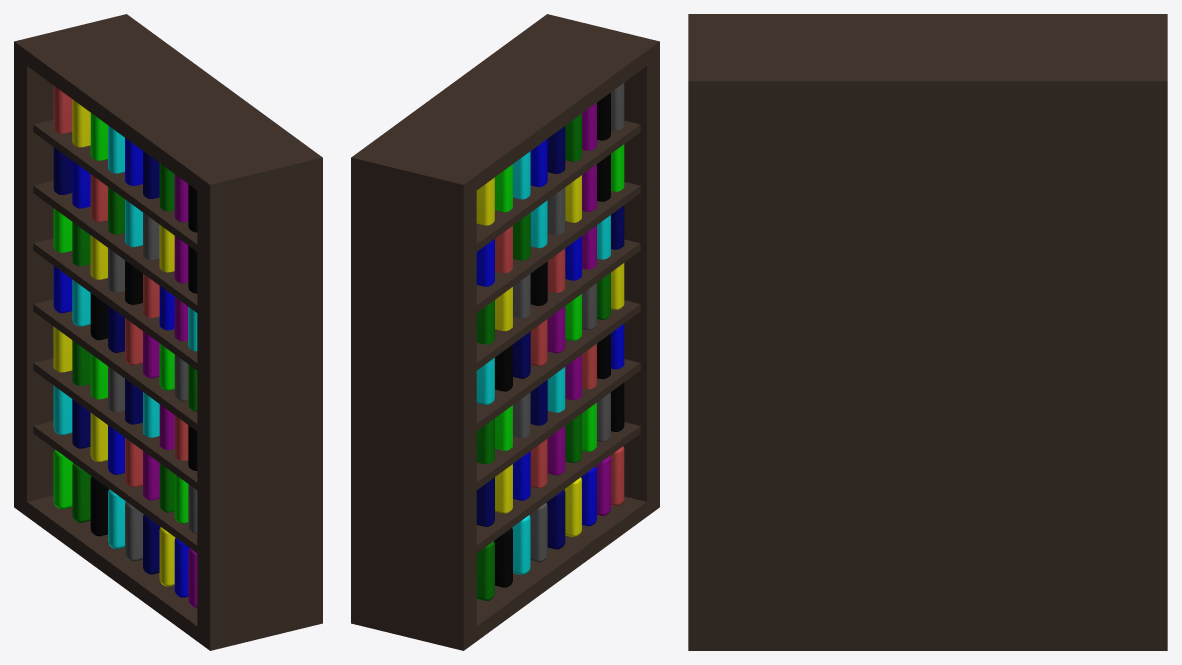
File: full bookshelf.fbx
3 renders of one model, left to right at view 1: azimuth 30°, elevation 25°; view 2: azimuth 150°, elevation 25°; view 3: azimuth 270°, elevation 25°, orthographic. The views are drawn at different scales.
Visible parts, largest first — view 1: pasted__pasted__pasted__pasted__pasted__group13_pasted__past; view 2: pasted__pasted__pasted__pasted__pasted__group13_pasted__past; view 3: pasted__pasted__pasted__pasted__pasted__group13_pasted__past.
Part boxes in pixels (x1,y1,x2,y2): pasted__pasted__pasted__pasted__pasted__group13_pasted__past: (14, 14, 322, 650); pasted__pasted__pasted__pasted__pasted__group13_pasted__past: (351, 14, 659, 650); pasted__pasted__pasted__pasted__pasted__group13_pasted__past: (688, 14, 1167, 650).
Size of the model in its own units: 1 by 3.96 by 3.02.
